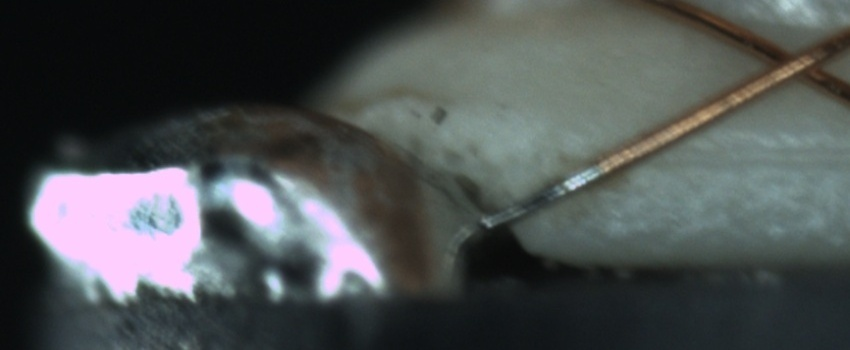CL: (741, 26, 844, 94)
DL: (641, 124, 849, 188)
TS: (483, 164, 606, 230)
